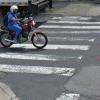Motorcycle: (2, 12, 58, 60)
